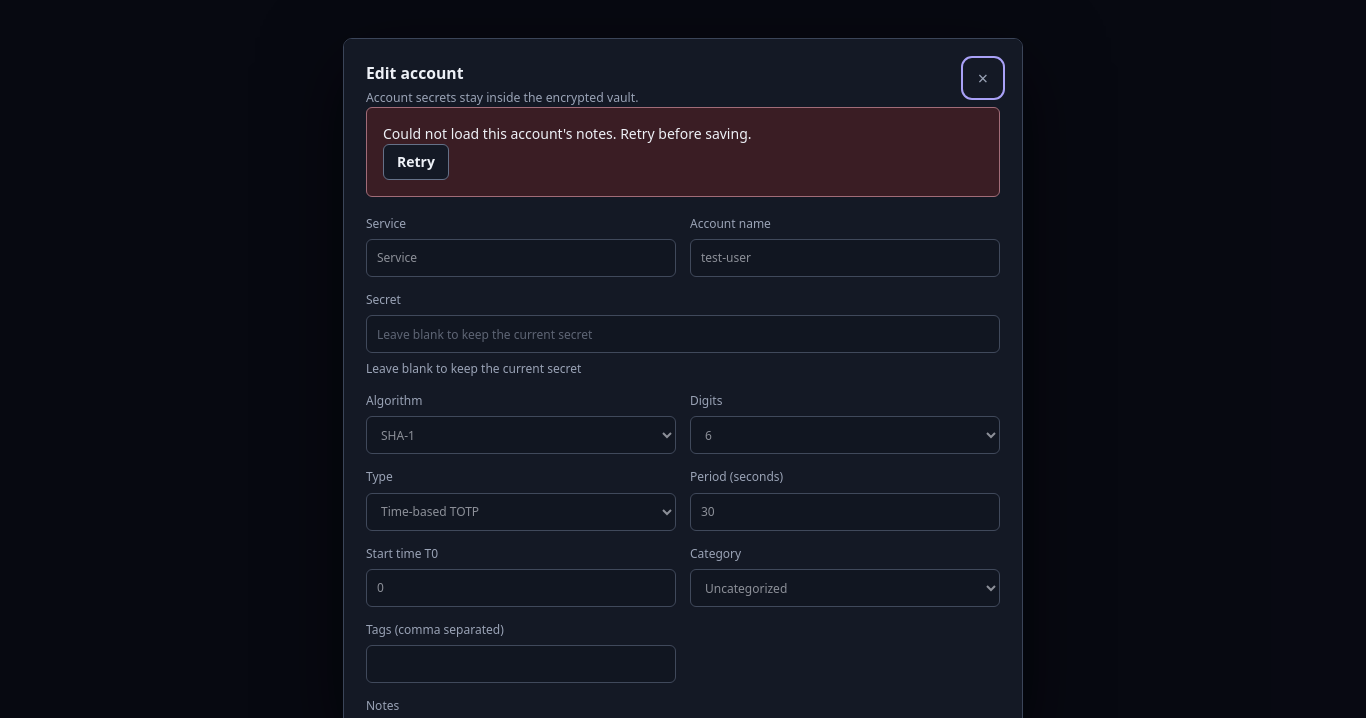
AccountDialog › rejects details for a different account and allows retry without enabling a stale edit
Expected: the message shows "Could not load this account's notes. Retry before saving.", top-left (383, 124), bottom-right (752, 143)
Click the button "Retry".
click(416, 162)  # box top-left (383, 144), bottom-right (449, 180)
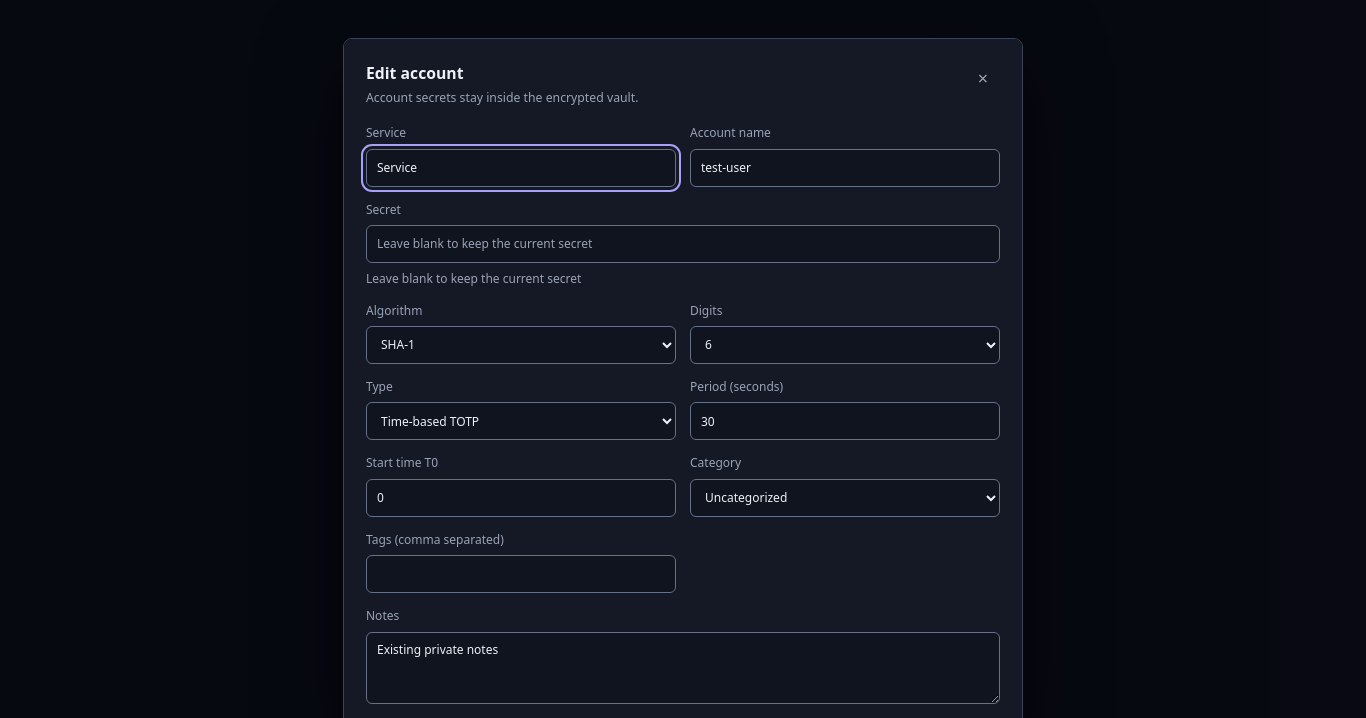
Now the text box labelled "Notes" holds "Existing private notes", box top-left (366, 632), bottom-right (1000, 704)
